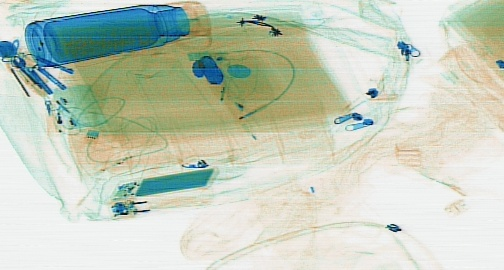lighter: (42, 85, 69, 152)
